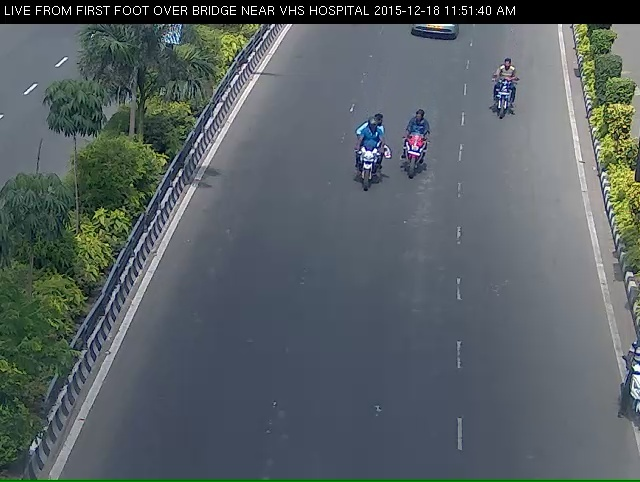Car: (405, 23, 465, 52)
Person: (351, 122, 391, 207), (397, 119, 432, 202), (491, 66, 517, 138)
